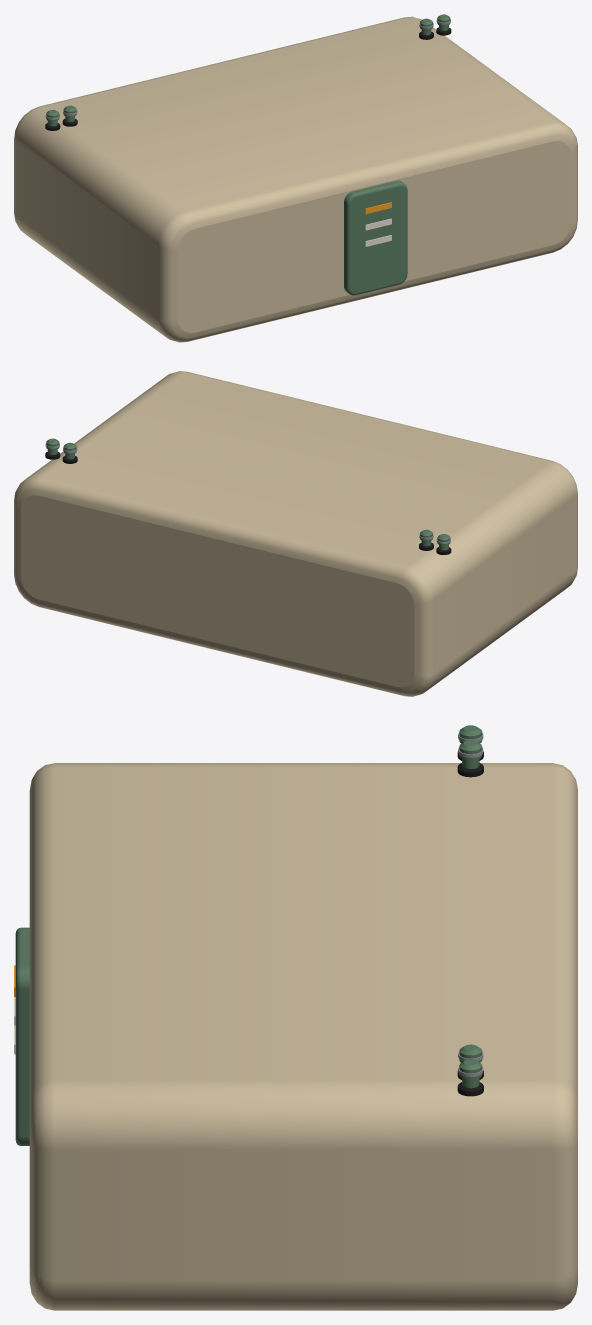
File: t60_cabinet.obj
3 renders of one model, top to bottom at view 1: azimuth 30°, elevation 25°; view 2: azimuth 150°, elevation 25°; view 3: azimuth 270°, elevation 25°, orthographic. The views are drawn at different scales.
Parts seen in each view (by area): view 1: t60_cabinet; view 2: t60_cabinet; view 3: t60_cabinet.
Boxes of the visible parts, left/top/right/bottom form: t60_cabinet: left=14, top=14, right=577, bottom=342; t60_cabinet: left=14, top=371, right=577, bottom=696; t60_cabinet: left=14, top=725, right=577, bottom=1310.
Size of the model in its own units: 4.81 by 1.6 by 3.21.
